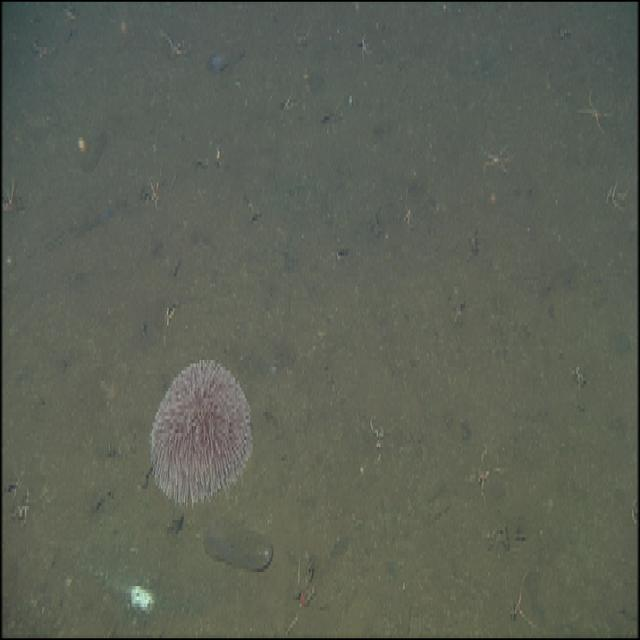Brittle Star: (578, 90, 614, 136), (476, 136, 514, 176), (144, 179, 162, 212)
Not Brittle Star: (145, 348, 254, 502), (198, 506, 276, 581)
